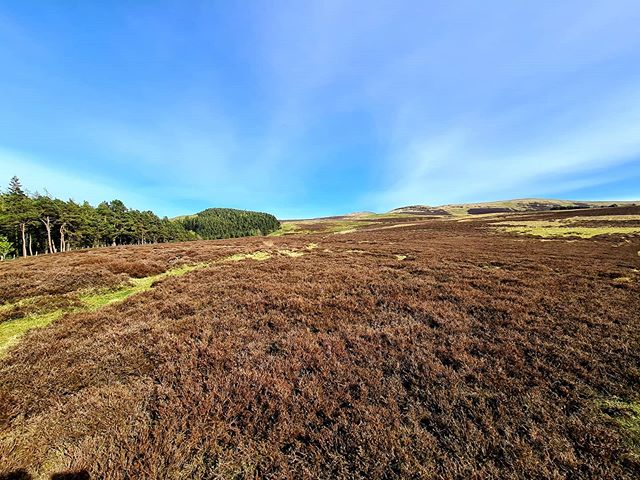grass: (1, 229, 618, 480)
sky: (10, 1, 640, 195)
vegetation: (1, 204, 289, 257)
